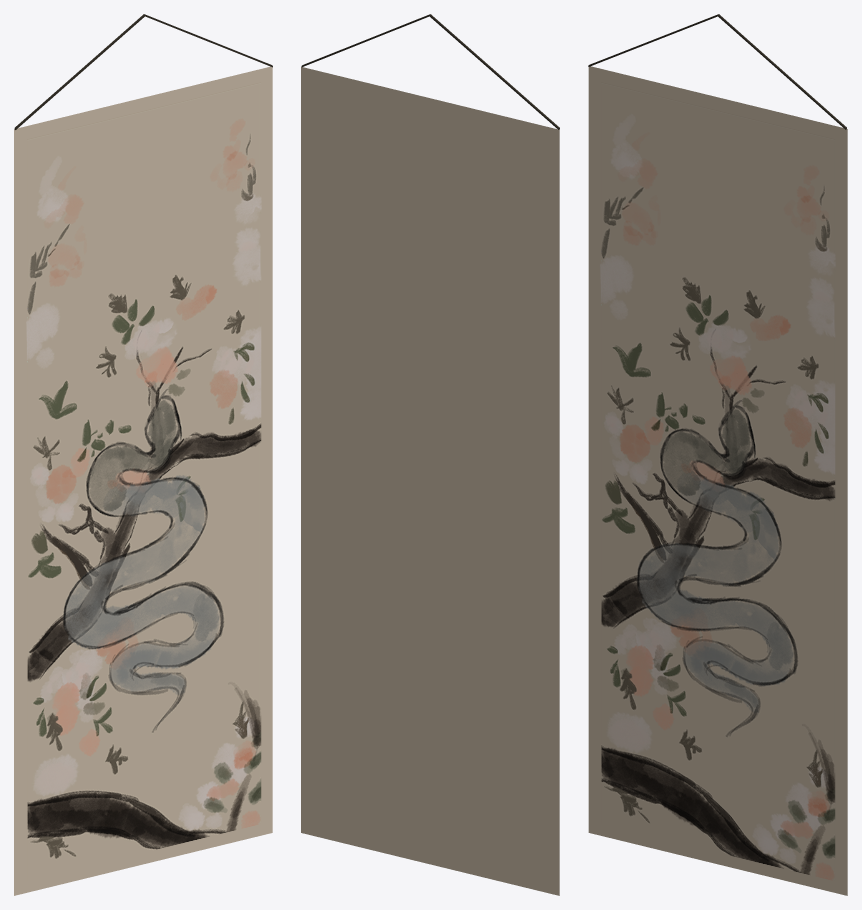
File: ukiyoe_Decor_Tapestry_Snake.fbx
3 renders of one model, left to right at view 1: azimuth 30°, elevation 25°; view 2: azimuth 150°, elevation 25°; view 3: azimuth 330°, elevation 25°, orthographic.
Parts seen in each view (by area): view 1: tapestry_Snake; view 2: tapestry_Snake; view 3: tapestry_Snake.
Part boxes in pixels (box(x1,y1,x2,y2)): tapestry_Snake: box(14, 14, 272, 895); tapestry_Snake: box(301, 14, 559, 895); tapestry_Snake: box(588, 14, 847, 895).
Bounding box in the file's own units: 54.51 × 171 × 0.4016.
